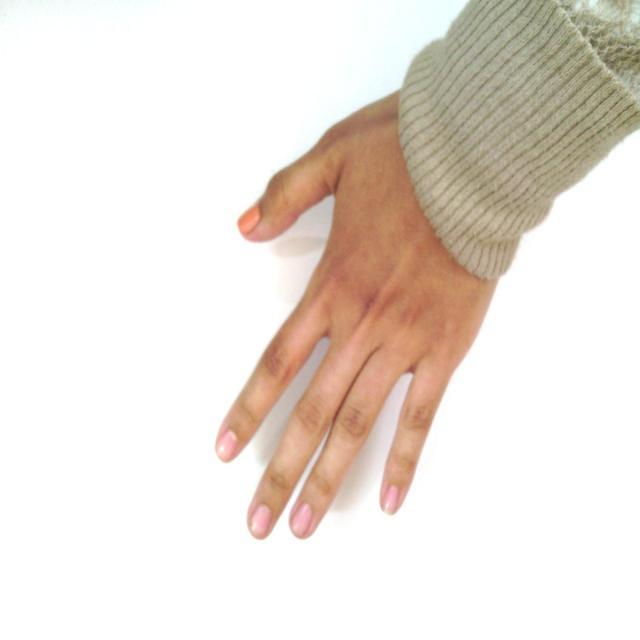Fingernail: (292, 503, 312, 536), (252, 505, 272, 535), (239, 207, 260, 234), (219, 432, 237, 458), (383, 485, 399, 513)
